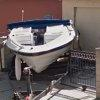Boat: (4, 17, 78, 80)
